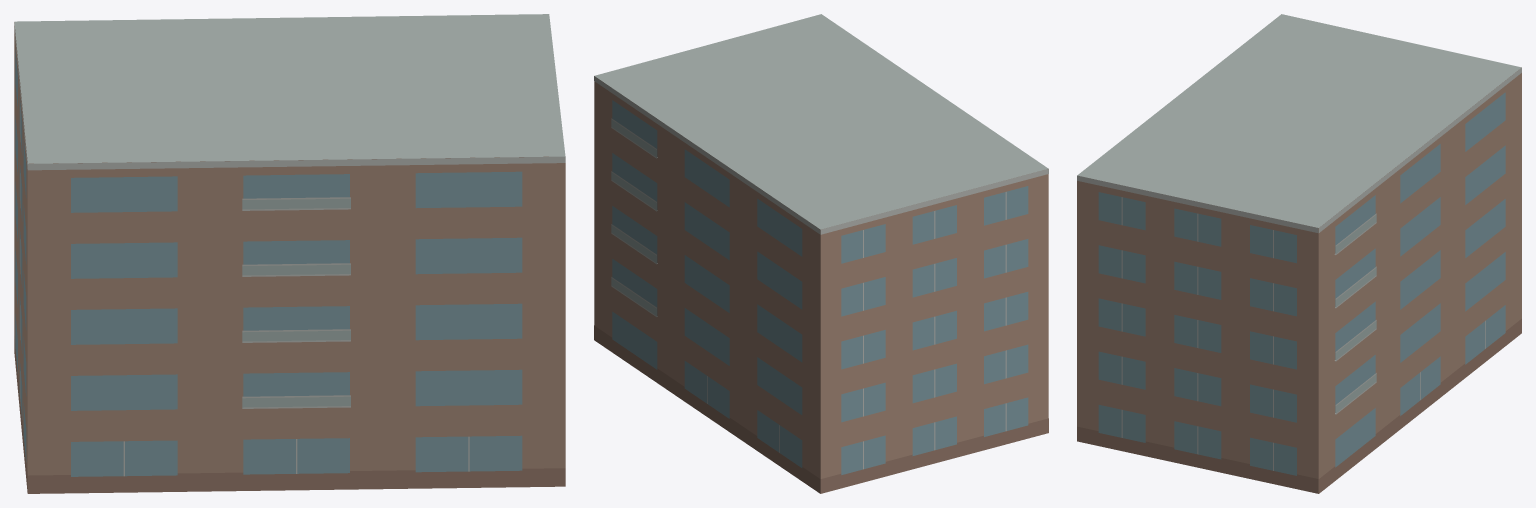
Rendered from survey-upis-32843769.glb.
3 views of the same model, side by side, from view 1: azimuth 30°, elevation 25°; view 2: azimuth 150°, elevation 25°; view 3: azimuth 270°, elevation 25° (orthographic). The views are drawn at different scales.
Parts seen in each view (by area): view 1: survey-upis-32843769.tmp; view 2: survey-upis-32843769.tmp; view 3: survey-upis-32843769.tmp.
Boxes of the visible parts, bbox=[...] form: survey-upis-32843769.tmp: bbox=[14, 14, 565, 493]; survey-upis-32843769.tmp: bbox=[594, 14, 1048, 493]; survey-upis-32843769.tmp: bbox=[1077, 14, 1521, 493].
Size of the model in its own units: 21.25 by 12.3 by 18.66.
